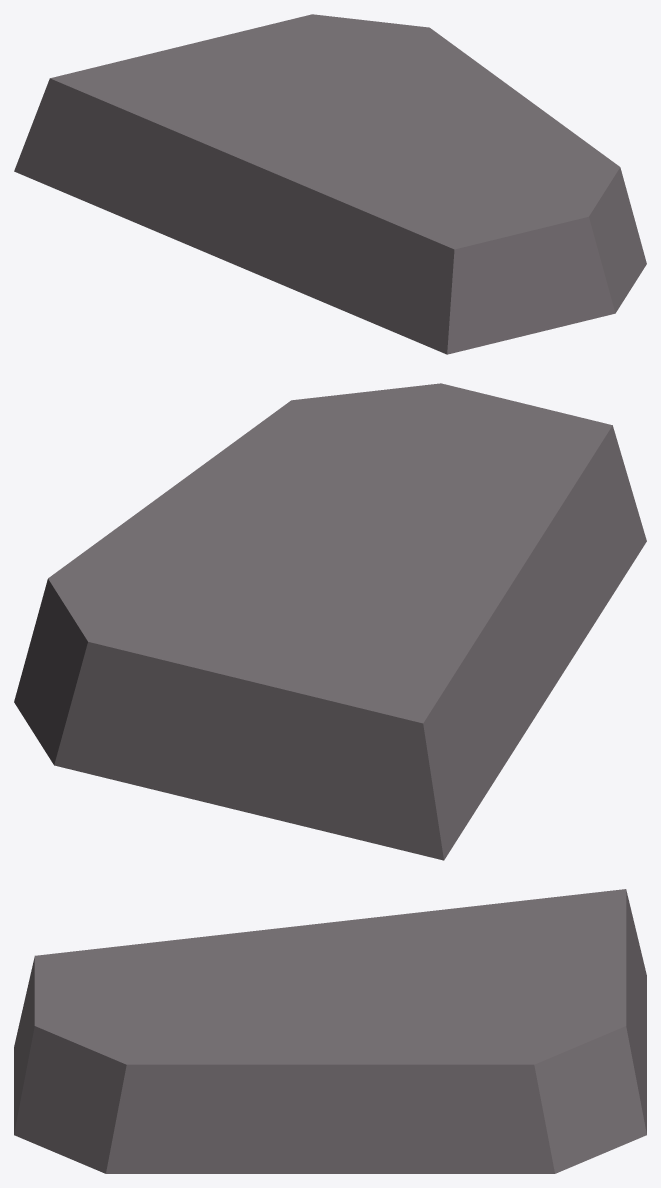
File: Rock_Tile_m_15.fbx
3 renders of one model, top to bottom at view 1: azimuth 30°, elevation 25°; view 2: azimuth 150°, elevation 25°; view 3: azimuth 270°, elevation 25°, orthographic. The views are drawn at different scales.
Parts seen in each view (by area): view 1: Rock_Tile_m_15; view 2: Rock_Tile_m_15; view 3: Rock_Tile_m_15.
Part boxes in pixels (bbox=[...]): Rock_Tile_m_15: bbox=[14, 14, 646, 354]; Rock_Tile_m_15: bbox=[14, 383, 646, 860]; Rock_Tile_m_15: bbox=[14, 889, 646, 1173].
Size of the model in its own units: 29.63 by 7 by 40.
